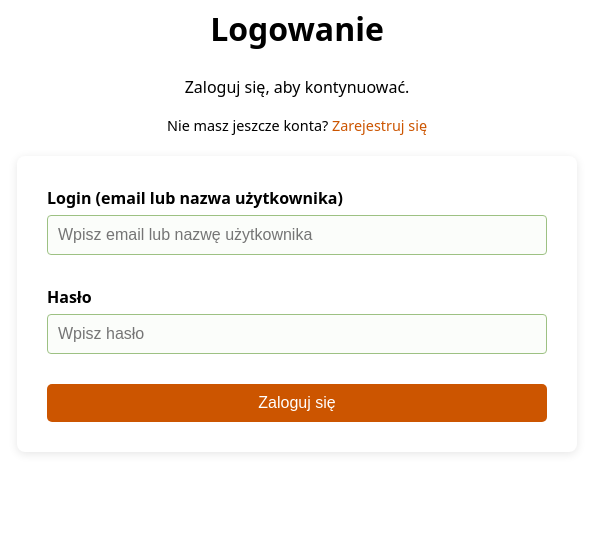
Scenario: Login Page › displays general error if auth.tryLogin fails
Type "wrong@example.com" into the field labelled "Login (email lub nazwa użytkownika)".
click(297, 236); type("wrong@example.com")  # box [47,216,547,256]
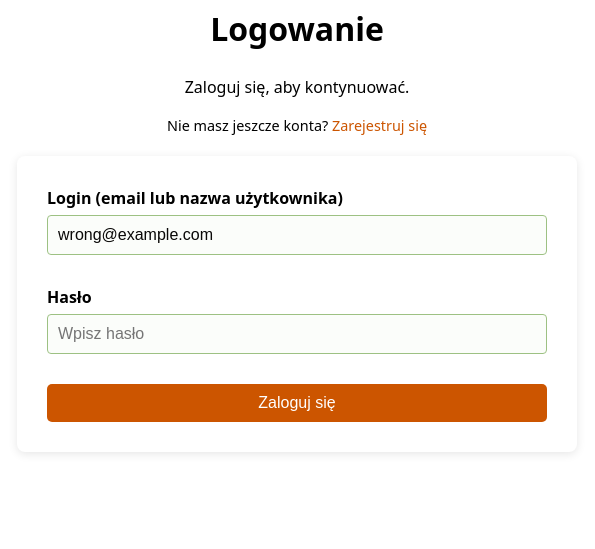
Type "wrongpass" into the password field labelled "Hasło".
click(297, 334); type("wrongpass")  # box [47,314,547,354]
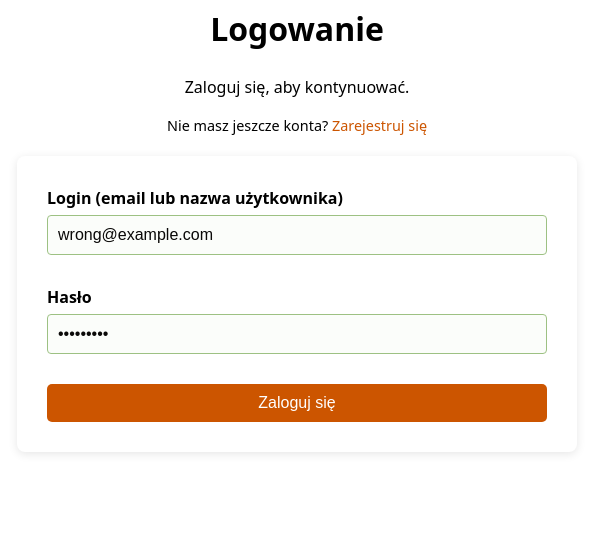
Click the button "Zaloguj się".
click(297, 404)  # box [47,384,547,422]
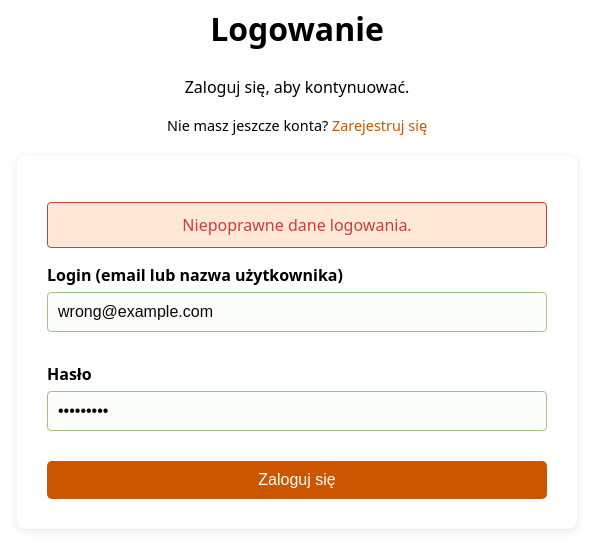
expect the button "Zaloguj się" is enabled: met, box [47,462,547,500]
expect the text "Niepoprawne dane logowania." is shown: met, box [47,202,547,248]
